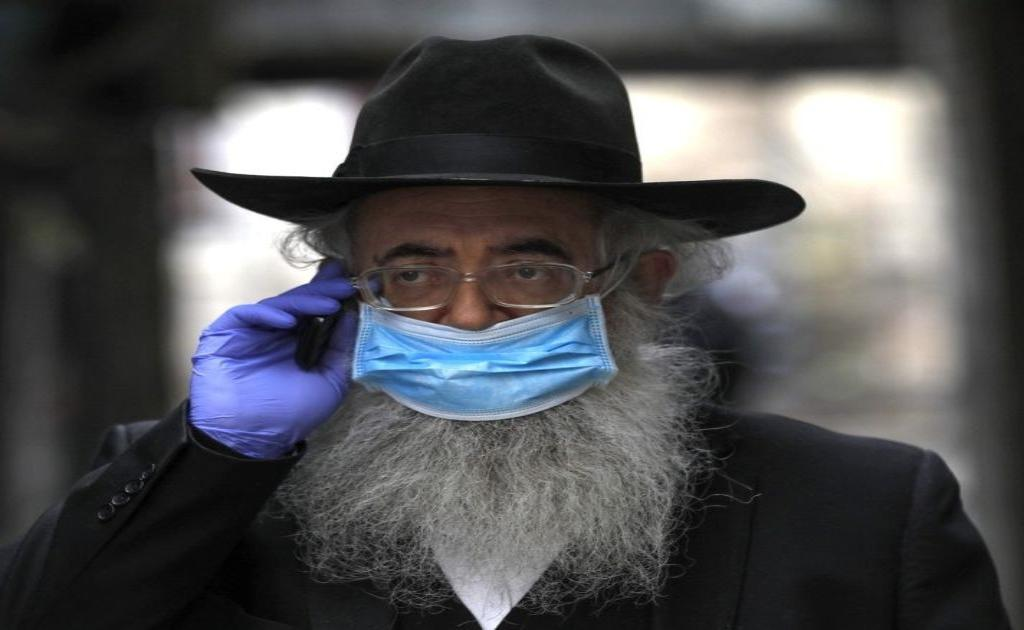mask_weared_incorrect: (329, 192, 671, 427)
